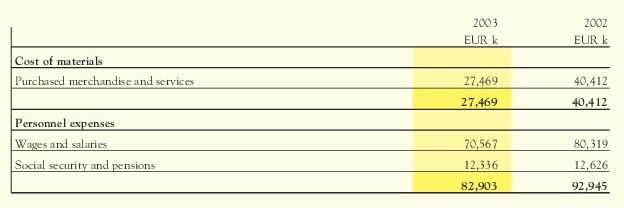table: (0, 0, 624, 208)
